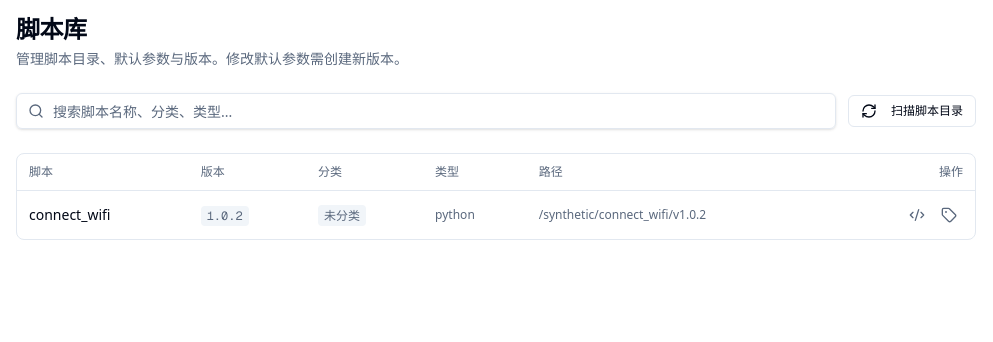
Test case: B5 U3 安全脚本元数据 › 缺少安全投影时不回退 raw schema/default
Click the button named "参数详情": [917, 214] box [903,200,931,228]
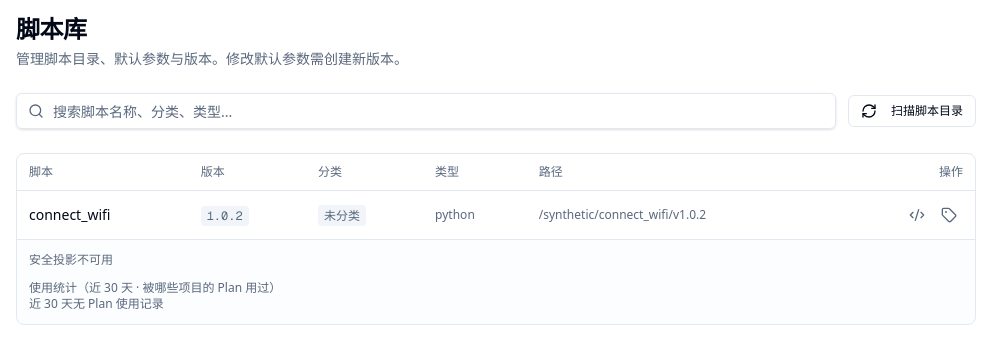
Check: the text "安全投影不可用" is shown, box [29,250,113,268]
